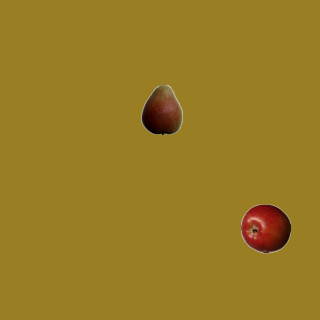Apple Braeburn: (240, 203, 290, 253)
Pear Forelle: (136, 84, 186, 134)
